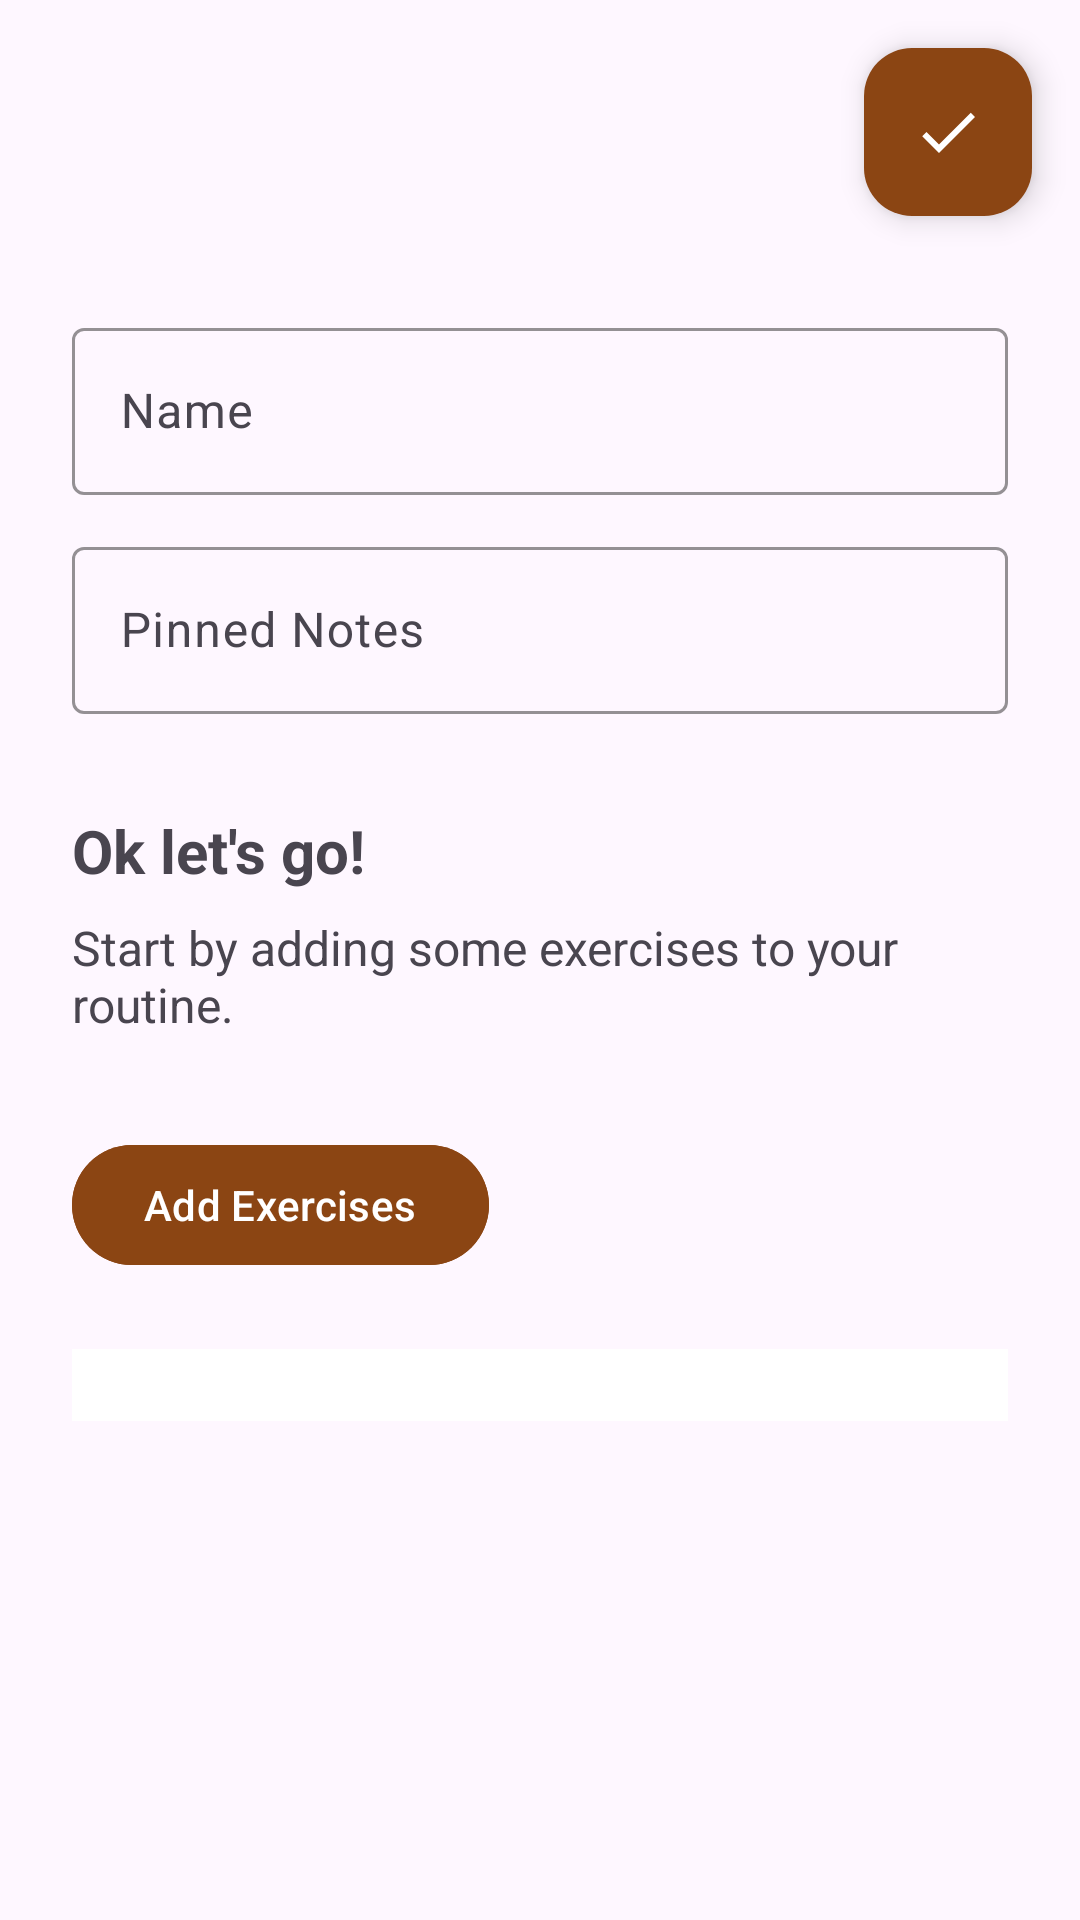

Icon bounding boxes for this 1080w x 1920h phone screenshot, format (x1, y1, x2, y2):
Save Workout: (864, 48, 1032, 216)
